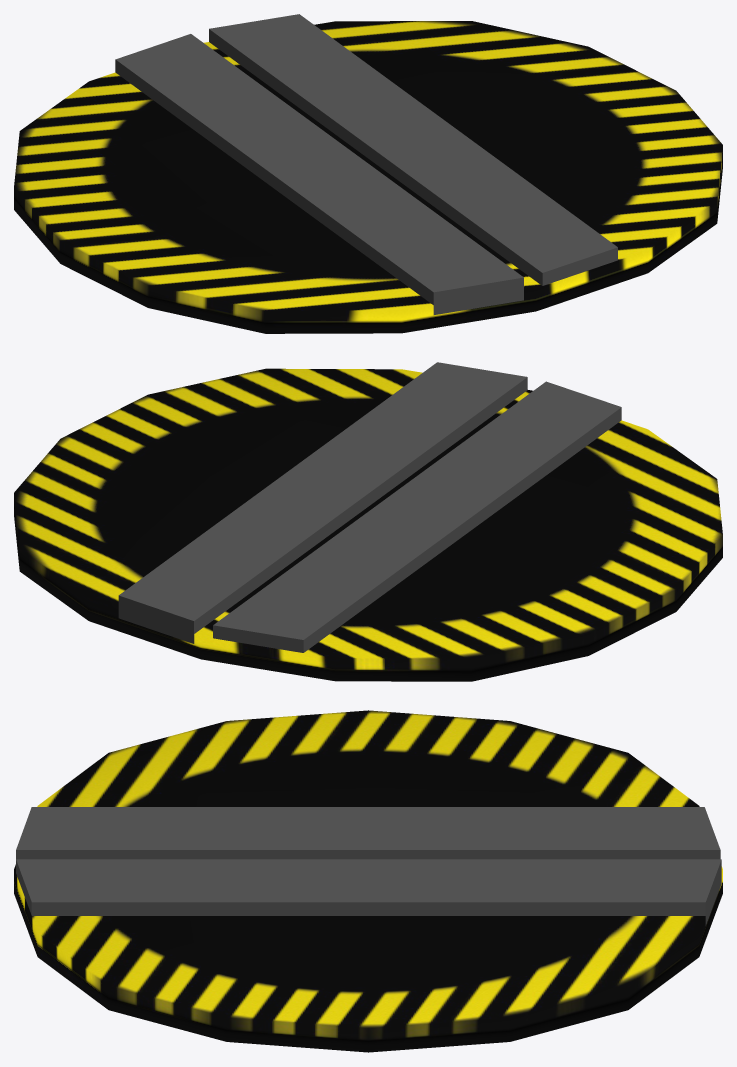
The model's file is trap_movingSaw_rotatoryGroove.FBX.
3 renders of one model, top to bottom at view 1: azimuth 30°, elevation 25°; view 2: azimuth 150°, elevation 25°; view 3: azimuth 270°, elevation 25°, orthographic. The views are drawn at different scales.
Parts seen in each view (by area): view 1: polySurface374; view 2: polySurface374; view 3: polySurface374.
Boxes of the visible parts, left/top/right/bottom form: polySurface374: left=14, top=14, right=722, bottom=333; polySurface374: left=14, top=362, right=722, bottom=681; polySurface374: left=14, top=710, right=722, bottom=1052.
Bounding box in the file's own units: 2.24 × 2.11 × 0.1247.
1 material, 1 textured.
